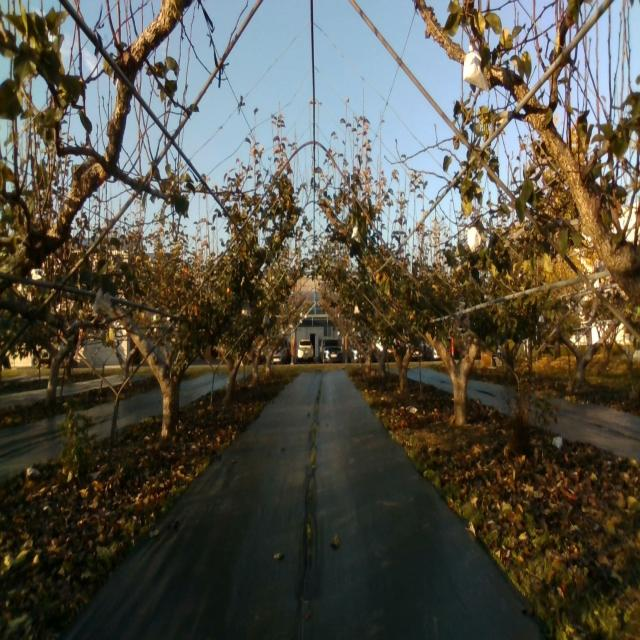pearbags: (463, 44, 488, 91), (93, 290, 111, 317), (465, 224, 481, 252)
